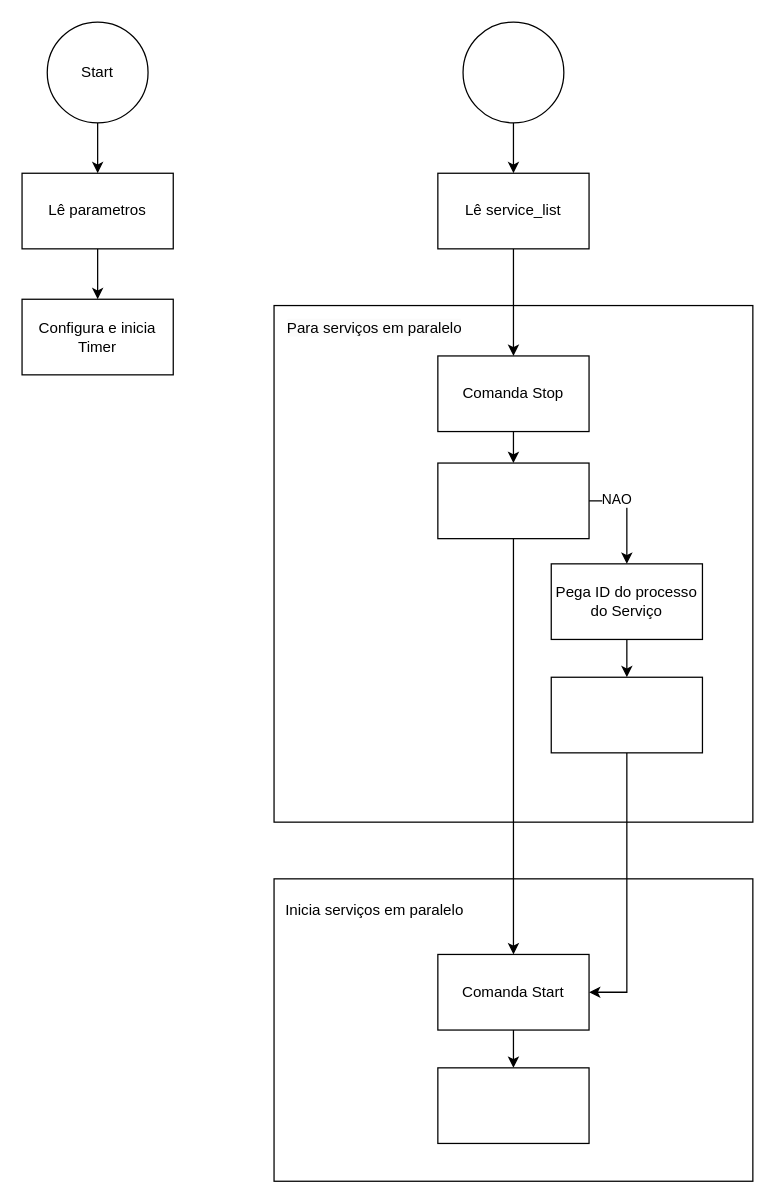
The diagram is 775 pixels wide and 1203 high, and some of its shapes have lost their labels. The shapes that lost their labels are listed below. From the top down, each one's box as (x1, y1, x2, y2) in pixels, then its label:
(462, 21, 564, 123): Elapse do Timer
(437, 462, 589, 539): Confirmado status Stop? (aguarda 10sec pela confirmação)
(550, 676, 702, 753): Comanda Kill do processo
(437, 1067, 589, 1143): Confirmado status Running? (aguarda 30sec pela confirmação)
